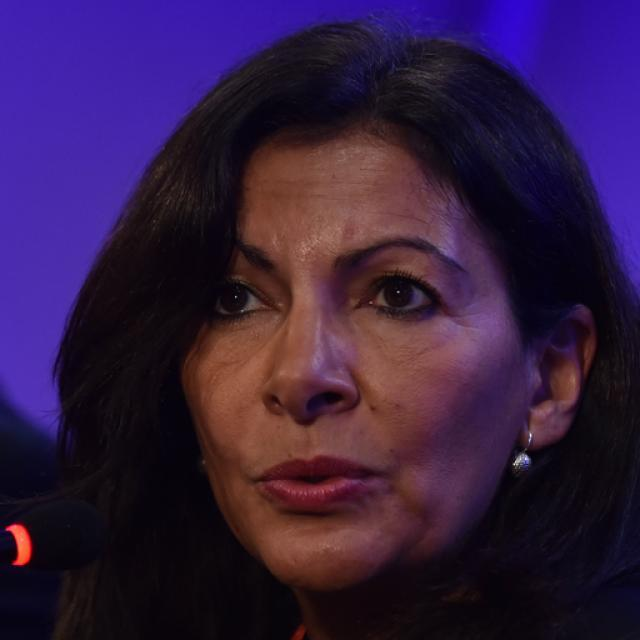surprise: (176, 112, 531, 590)
